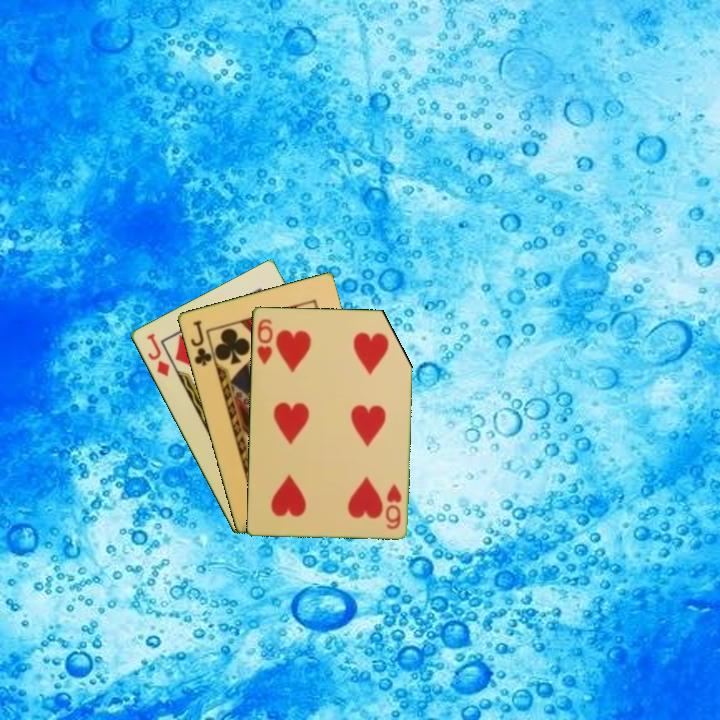6h: (253, 315, 275, 367), (382, 480, 404, 532)
Jc: (187, 316, 214, 369)
Jd: (142, 329, 172, 379)
